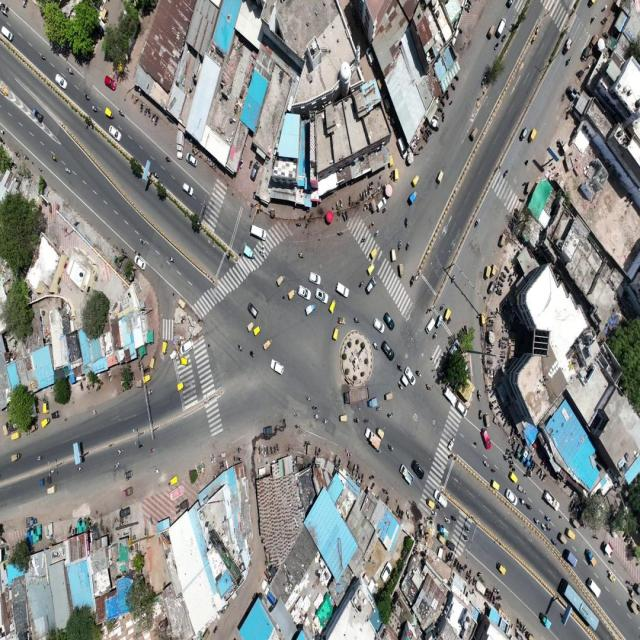3W: (364, 257, 377, 276), (367, 245, 380, 260), (527, 129, 539, 145), (495, 564, 507, 578), (44, 488, 60, 498), (376, 422, 385, 439), (437, 169, 446, 185), (383, 388, 393, 402), (338, 412, 348, 426), (425, 498, 435, 512), (447, 436, 456, 451), (104, 106, 114, 119), (566, 526, 576, 539), (11, 453, 22, 464), (286, 291, 296, 303), (510, 471, 519, 484), (253, 322, 261, 336), (168, 474, 179, 484), (469, 128, 478, 140), (482, 265, 491, 277), (488, 23, 494, 40), (41, 415, 51, 425), (413, 173, 420, 187), (485, 414, 492, 428), (492, 262, 498, 278), (520, 129, 528, 141), (332, 324, 338, 340), (492, 481, 499, 494), (180, 356, 189, 366), (262, 340, 272, 349), (398, 264, 403, 282), (329, 301, 337, 312), (162, 341, 169, 353), (178, 297, 186, 307), (143, 373, 150, 384), (480, 314, 486, 326), (277, 274, 284, 284), (391, 248, 396, 262), (177, 381, 185, 389), (446, 310, 453, 318), (248, 322, 254, 330)
Bus: (563, 575, 601, 630)
Cars: (248, 220, 270, 243), (477, 423, 492, 451), (404, 360, 418, 390), (106, 122, 123, 145), (586, 575, 602, 598), (269, 354, 285, 377), (456, 392, 468, 422), (411, 456, 426, 479), (564, 549, 580, 570), (435, 485, 448, 510), (382, 305, 395, 330), (445, 384, 458, 409), (247, 298, 260, 319), (104, 74, 118, 93), (496, 15, 508, 37), (134, 250, 147, 270), (314, 288, 330, 304), (336, 280, 348, 300), (382, 340, 394, 359), (182, 180, 196, 196), (180, 337, 194, 353), (372, 316, 386, 331), (55, 74, 68, 90), (365, 280, 378, 296), (506, 489, 519, 505), (309, 271, 322, 286), (298, 285, 311, 299), (186, 152, 198, 164), (474, 214, 481, 229), (124, 470, 133, 479)
LCV: (400, 462, 415, 489), (536, 606, 552, 630), (30, 104, 47, 123), (23, 511, 40, 527), (438, 520, 450, 540), (367, 392, 379, 411), (587, 549, 599, 567), (414, 344, 426, 362), (245, 244, 255, 261), (305, 301, 315, 317), (408, 191, 418, 205), (39, 476, 53, 486), (124, 482, 133, 496)
M2W: (68, 64, 78, 78), (501, 34, 509, 48), (525, 500, 533, 513), (443, 516, 452, 527), (432, 331, 440, 343), (363, 414, 371, 426), (168, 249, 174, 265), (51, 152, 59, 164), (305, 392, 312, 405), (114, 459, 120, 474), (488, 464, 496, 475), (293, 405, 300, 417), (492, 41, 499, 53), (165, 151, 172, 163), (85, 89, 92, 101), (542, 522, 550, 532), (502, 169, 510, 179), (483, 558, 491, 568), (40, 51, 47, 62), (464, 535, 471, 546), (376, 402, 382, 414), (464, 524, 470, 536), (402, 218, 409, 228), (63, 167, 70, 177), (399, 235, 403, 252), (353, 414, 359, 425), (476, 390, 482, 401), (566, 56, 572, 67), (397, 379, 402, 392), (91, 104, 99, 112), (116, 447, 123, 456), (236, 345, 245, 352), (136, 441, 145, 448), (388, 442, 394, 452), (38, 452, 44, 462), (368, 220, 374, 230), (451, 274, 456, 286), (250, 348, 256, 358), (490, 556, 496, 566), (518, 494, 524, 504), (544, 511, 550, 521), (450, 513, 456, 523), (139, 237, 147, 244), (535, 515, 539, 529), (404, 241, 409, 252), (483, 459, 488, 470), (312, 403, 318, 412), (426, 383, 432, 392), (313, 411, 319, 420), (150, 447, 156, 456), (154, 464, 159, 474), (372, 344, 379, 351), (416, 366, 420, 378), (153, 170, 159, 178), (298, 251, 303, 260), (478, 411, 483, 420), (396, 365, 402, 372), (550, 537, 556, 544), (388, 411, 392, 420), (322, 418, 327, 425), (353, 318, 358, 324)
MAV: (542, 489, 561, 512)
Truck: (342, 379, 370, 412), (364, 427, 382, 451)
